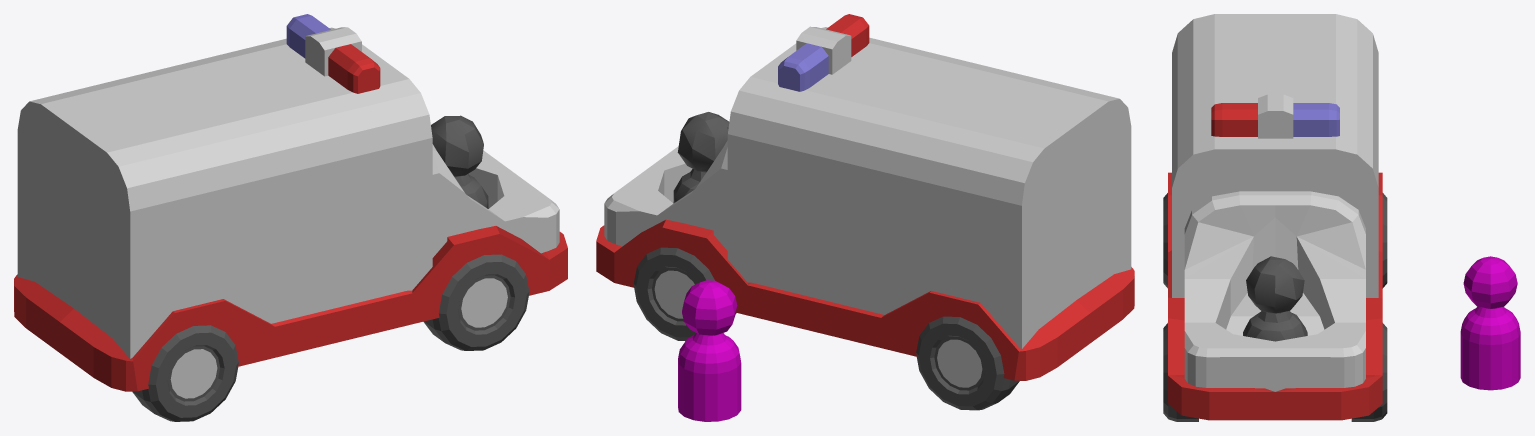
The model's file is Ambulance(Basic).fbx.
3 renders of one model, left to right at view 1: azimuth 30°, elevation 25°; view 2: azimuth 150°, elevation 25°; view 3: azimuth 270°, elevation 25°, orthographic. The views are drawn at different scales.
Parts seen in each view (by area): view 1: Back, Rim, Circle.001, Seat, Cube, peggy; view 2: Back, Rim, Circle.001, Circle.004, Seat, Cube, peggy; view 3: Back, Seat, Rim, Circle.004, Cube, peggy, Circle.001.
Boxes of the visible parts, <box> form: Back: <box>17,27,432,358</box>; Rim: <box>14,226,567,391</box>; Circle.001: <box>132,254,529,421</box>; Seat: <box>432,144,559,257</box>; Cube: <box>286,14,380,93</box>; peggy: <box>431,115,488,208</box>; Back: <box>727,27,1131,348</box>; Rim: <box>596,219,1134,380</box>; Circle.001: <box>633,247,1019,410</box>; Circle.004: <box>678,280,741,421</box>; Seat: <box>604,140,727,250</box>; Cube: <box>778,14,869,91</box>; peggy: <box>673,112,729,203</box>; Back: <box>1172,14,1378,297</box>; Seat: <box>1184,191,1365,391</box>; Rim: <box>1168,172,1382,420</box>; Circle.004: <box>1460,256,1520,390</box>; Cube: <box>1211,94,1339,138</box>; peggy: <box>1243,256,1307,341</box>; Circle.001: <box>1163,193,1387,421</box>.
Bounding box in the file's own units: 1646 × 1007 × 1187.
